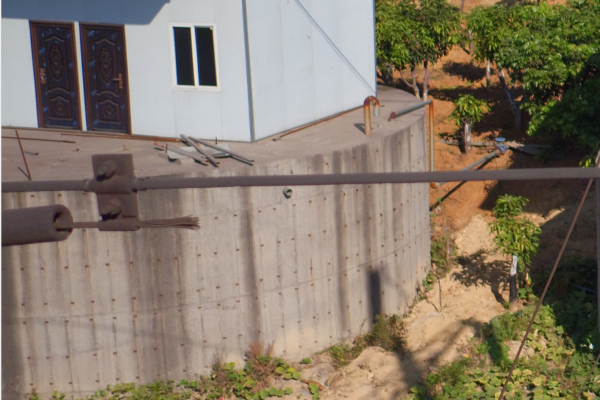damper_defect: (1, 150, 219, 258)
